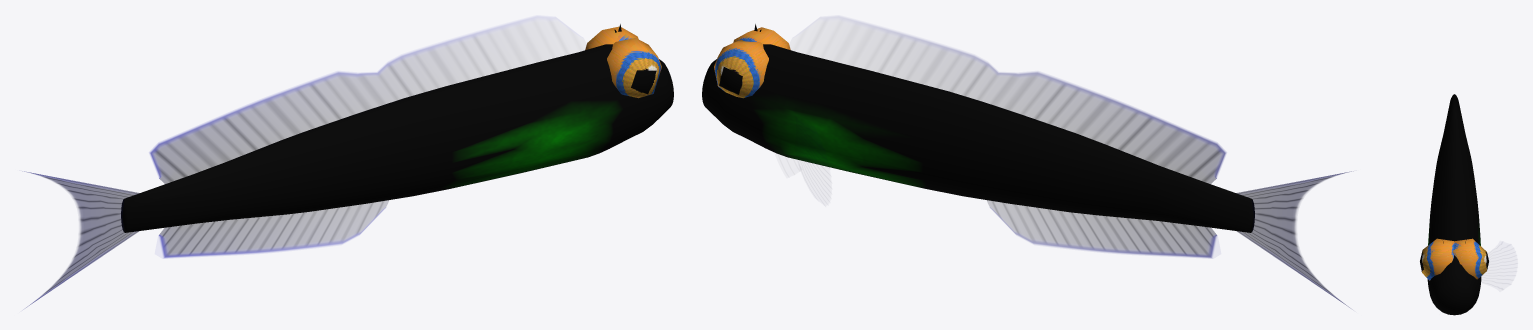
Rendered from midas_blenny_lod1.glb.
3 views of the same model, side by side, from view 1: azimuth 30°, elevation 25°; view 2: azimuth 150°, elevation 25°; view 3: azimuth 270°, elevation 25° (orthographic). The views are drawn at different scales.
Parts seen in each view (by area): view 1: Body, FinDorsal, FinAnal, FinCaudal, EyeR, EyeL; view 2: Body, FinDorsal, FinAnal, FinCaudal, EyeL, EyeR; view 3: Body, EyeR, EyeL.
Part boxes in pixels (x1,y1,x2,y2): Body: (121, 24, 673, 232); FinDorsal: (149, 25, 511, 184); FinAnal: (159, 201, 388, 257); FinCaudal: (24, 171, 139, 307); EyeR: (607, 38, 661, 98); EyeL: (585, 26, 638, 50); Body: (702, 24, 1254, 232); FinDorsal: (864, 25, 1225, 184); FinAnal: (987, 201, 1216, 257); FinCaudal: (1236, 171, 1351, 307); EyeL: (714, 40, 768, 98); EyeR: (733, 27, 790, 50); Body: (1427, 94, 1481, 315); EyeR: (1420, 238, 1454, 280); EyeL: (1452, 238, 1488, 279).
Bounding box in the file's own units: 1 × 0.268 × 0.2341.
Materials: 4 (3 with a texture image).
